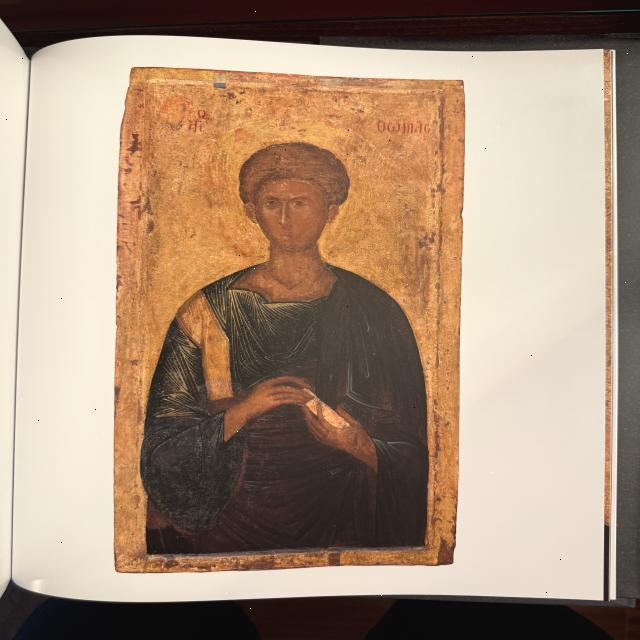aura: (197, 121, 407, 259)
saint: (141, 104, 433, 551)
scroll: (275, 375, 375, 457)
